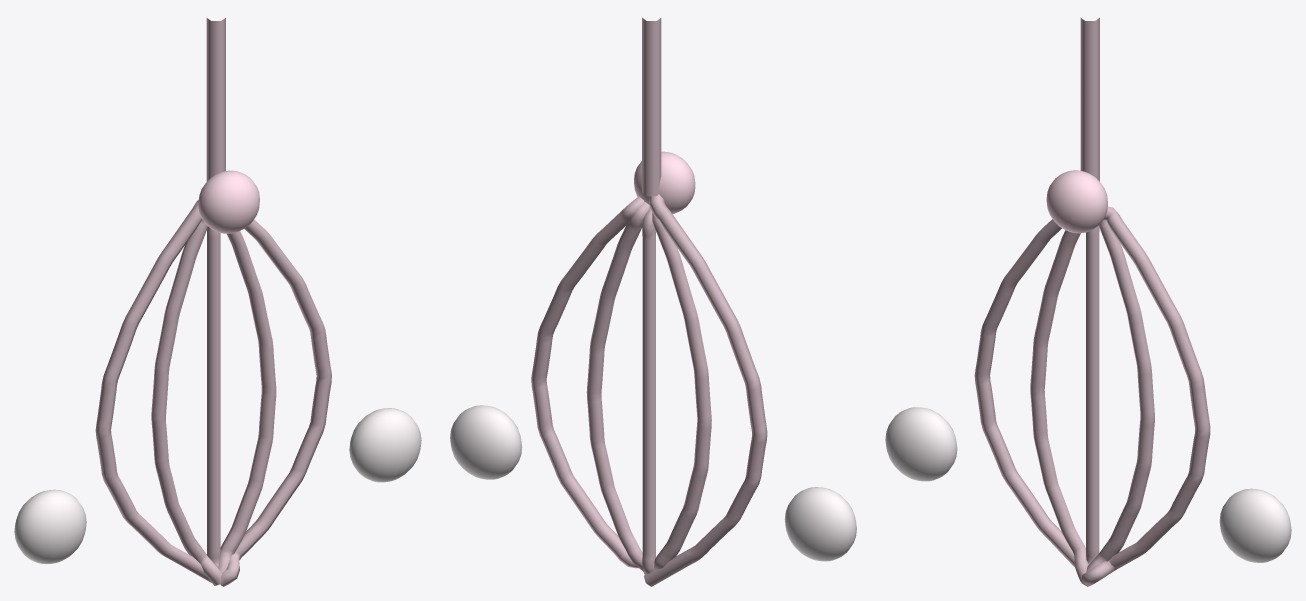
File: decor_4_candy.glb
3 views of the same model, side by side, from view 1: azimuth 30°, elevation 25°; view 2: azimuth 150°, elevation 25°; view 3: azimuth 330°, elevation 25° (orthographic).
Parts seen in each view (by area): view 1: decor_4_candy; view 2: decor_4_candy; view 3: decor_4_candy.
Boxes of the visible parts, x1,y1,x2,y2 form: decor_4_candy: [14, 18, 421, 586]; decor_4_candy: [450, 17, 856, 586]; decor_4_candy: [885, 17, 1291, 586].
Size of the model in its own units: 7.2 by 9.7 by 1.2.
